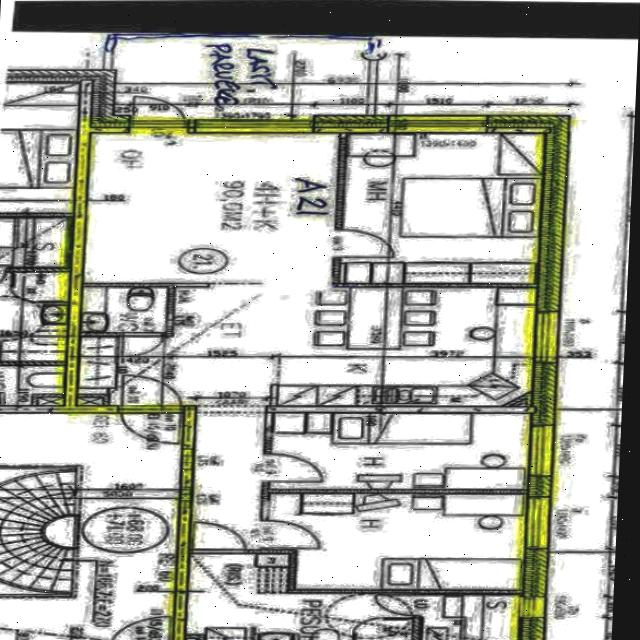room: (339, 134, 544, 283), (185, 554, 521, 640), (266, 494, 526, 590), (269, 413, 530, 490), (80, 288, 167, 332)
